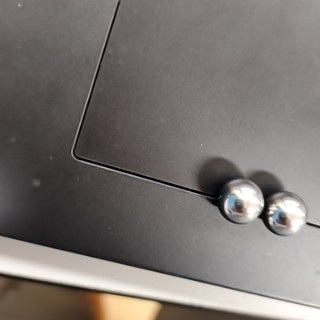ironball: (210, 163, 263, 241), (266, 177, 313, 246)
